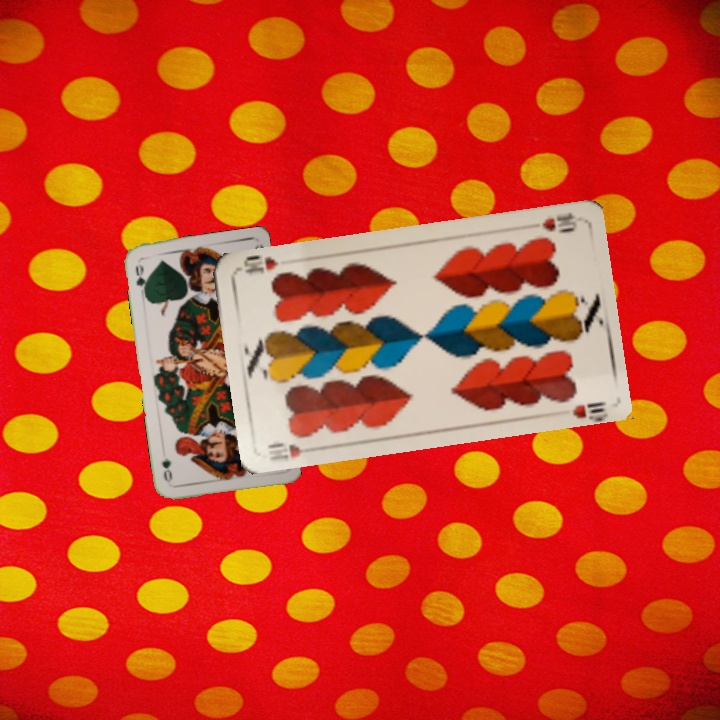GO: (131, 260, 149, 297)
H10: (263, 438, 321, 463), (538, 208, 581, 236)
